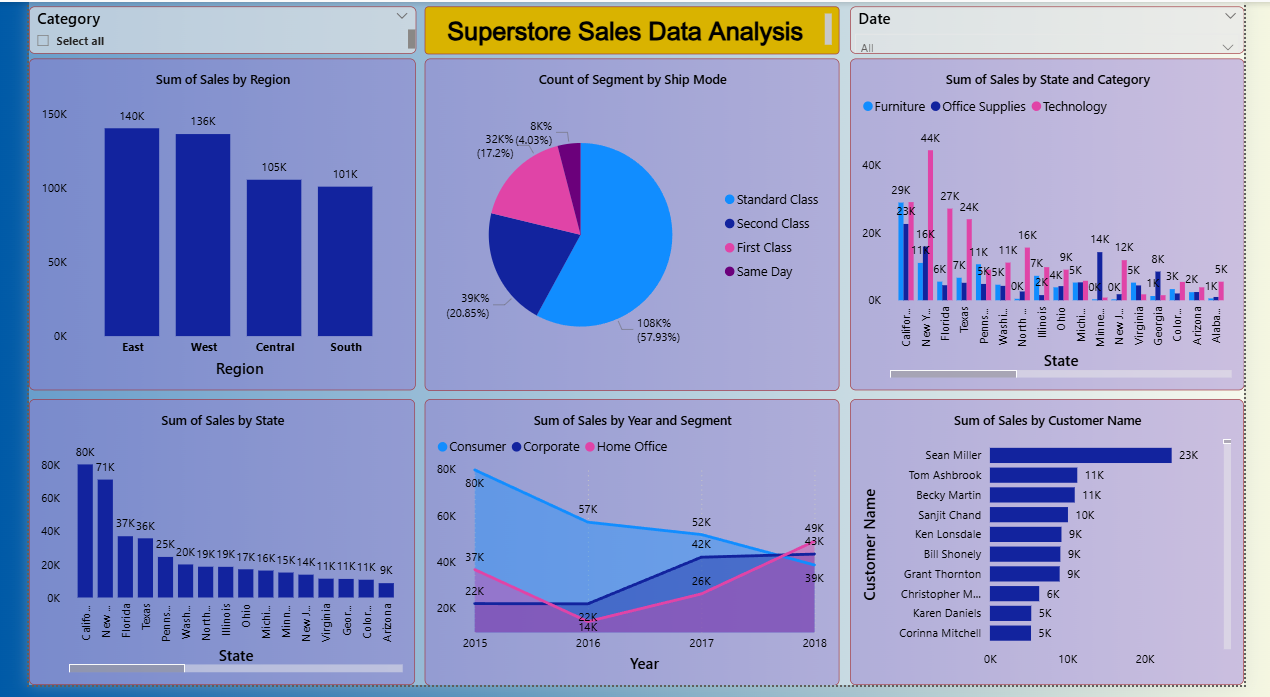

This screenshot's page, from the dashboard's own definition file:
{"tool":"powerbi","page":{"name":"Page 1","canvas":[1280,720],"ordinal":0},"visuals":[{"type":"clusteredColumnChart","fields":{"Category":["train.Region"],"Y":["Sum(train.Sales)"]},"box":[0,59.6,407.5,349.5],"z":0},{"type":"clusteredColumnChart","fields":{"Category":["train.State"],"Y":["Sum(train.Sales)"]},"box":[0,419,407,301],"z":1000},{"type":"pieChart","fields":{"Y":["CountNonNull(train.Segment)"],"Category":["train.Ship Mode"]},"box":[416.9,59.2,436.9,350],"z":2000},{"type":"clusteredColumnChart","fields":{"Category":["train.State"],"Series":["train.Category"],"Y":["Sum(train.Sales)"]},"box":[865.1,59.6,415.3,349.5],"z":3000},{"type":"lineChart","fields":{"Y":["Sum(train.Sales)"],"Category":["CALENDER.Date.Variation.Date Hierarchy.Year"],"Series":["train.Segment"]},"box":[416.9,418.5,436.9,301.5],"z":4000},{"type":"slicer","fields":{"Values":["CALENDER.Date"]},"box":[865,5,415.7,50],"z":4001},{"type":"slicer","fields":{"Values":["train.Category"]},"box":[0,5,407.9,50],"z":4002},{"type":"barChart","fields":{"Y":["Sum(train.Sales)"],"Category":["train.Customer Name"]},"box":[865,419,415,301],"z":4003},{"type":"textbox","box":[416.9,4.7,437.3,50.2],"z":4004}]}

Visuals, with their boxes in screenshot pixels (x1, y1, x2, y2), scaled from the page's 1280x720 canvas onto the 1270x697 screenshot:
clusteredColumnChart - train.Region x Sum(train.Sales): locate(0, 58, 404, 396)
clusteredColumnChart - train.State x Sum(train.Sales): locate(0, 406, 404, 696)
pieChart - CountNonNull(train.Segment) x train.Ship Mode: locate(414, 57, 847, 396)
clusteredColumnChart - train.State x train.Category: locate(858, 58, 1269, 396)
lineChart - Sum(train.Sales) x CALENDER.Date.Variation.Date Hierarchy.Year: locate(414, 405, 847, 696)
slicer - CALENDER.Date: locate(858, 5, 1269, 53)
slicer - train.Category: locate(0, 5, 405, 53)
barChart - Sum(train.Sales) x train.Customer Name: locate(858, 406, 1269, 696)
textbox: locate(414, 5, 848, 53)
